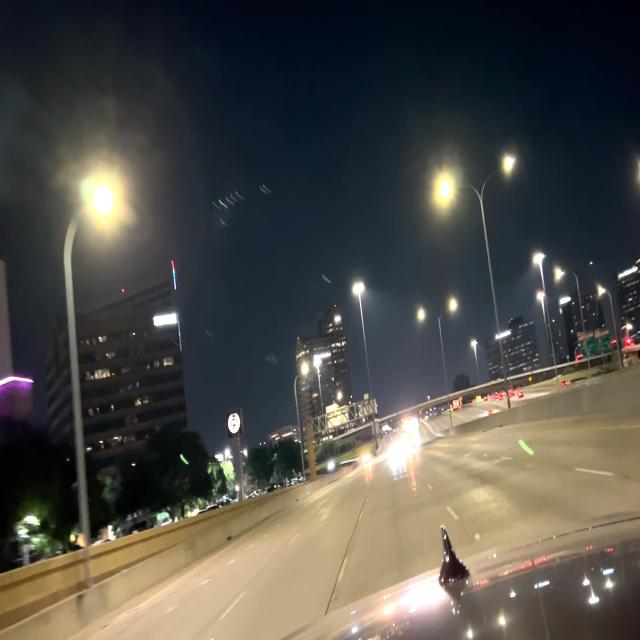back-of-sign: (326, 400, 349, 430), (357, 391, 380, 419)
